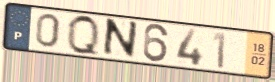0: (34, 12, 63, 50)
1: (211, 31, 228, 71)
4: (174, 26, 207, 68)
6: (141, 23, 170, 64)
N: (100, 17, 140, 60)
Q: (65, 13, 102, 60)
